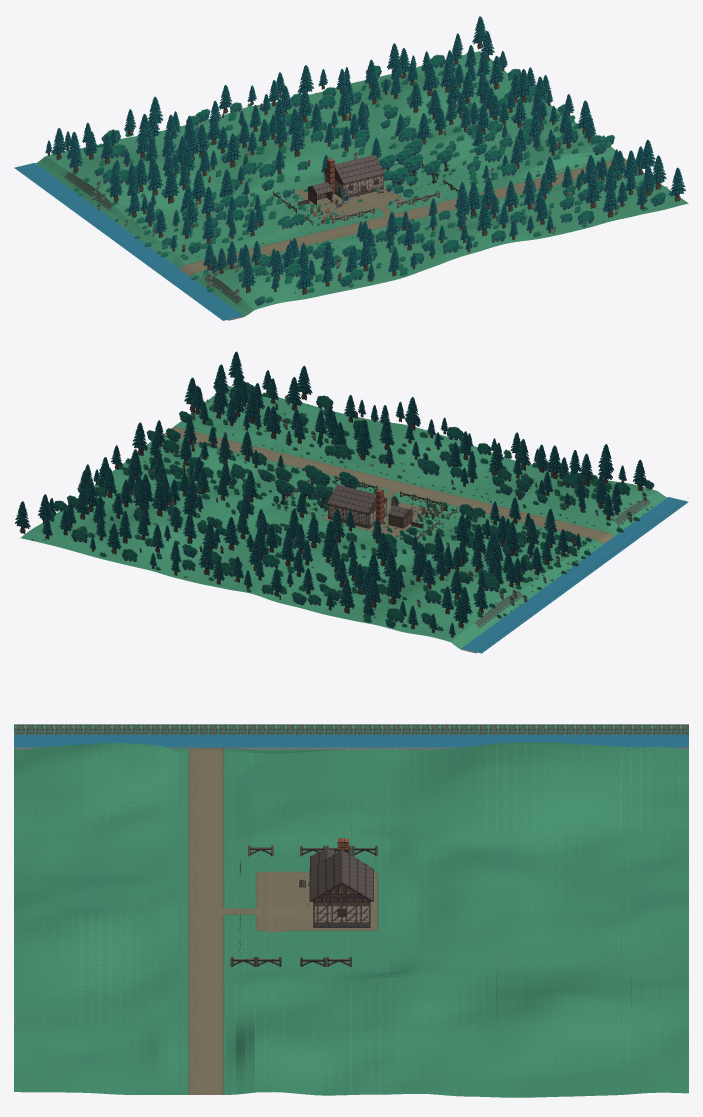
File: homestead_exterior.glb
3 renders of one model, top to bottom at view 1: azimuth 30°, elevation 25°; view 2: azimuth 150°, elevation 25°; view 3: azimuth 270°, elevation 25°, orthographic. The views are drawn at different scales.
Parts seen in each view (by area): view 1: crocotile_scene; view 2: crocotile_scene; view 3: crocotile_scene.
Boxes of the visible parts, <box> form: crocotile_scene: <box>14,16,688,320</box>; crocotile_scene: <box>15,351,688,653</box>; crocotile_scene: <box>14,724,688,1097</box>.
Size of the model in its own units: 91.49 by 9.28 by 70.
Materials: 10 (10 with a texture image).
